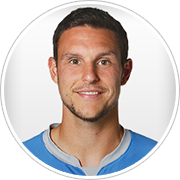smile: (72, 87, 108, 99)
